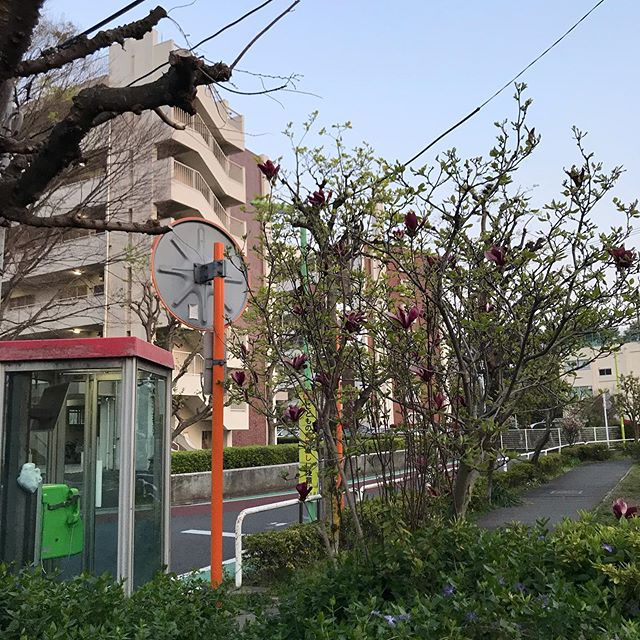building: (14, 32, 280, 434)
phone booth: (1, 335, 172, 627)
sky: (215, 1, 640, 239)
tree: (321, 112, 615, 599)
